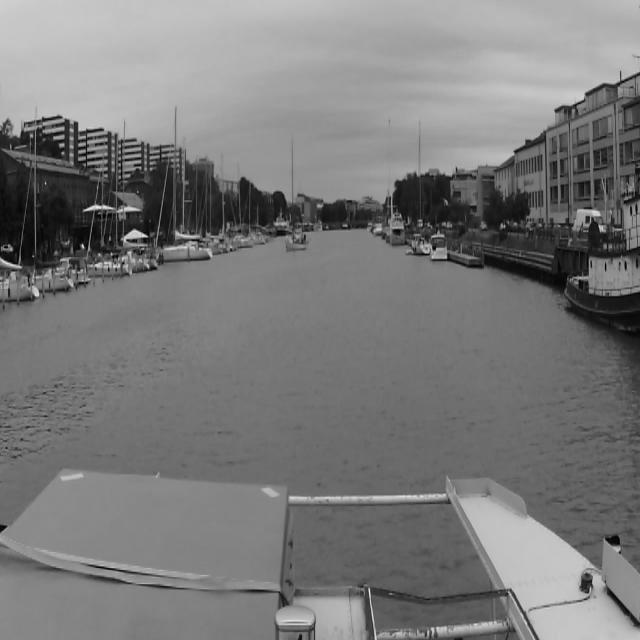ship: (565, 226, 639, 332), (173, 106, 210, 261), (88, 156, 128, 273), (32, 186, 74, 292), (406, 97, 434, 253), (212, 130, 242, 262), (285, 137, 307, 251), (416, 118, 430, 257), (250, 156, 270, 246), (387, 202, 409, 242), (375, 206, 397, 243), (272, 203, 290, 236), (390, 211, 404, 247), (428, 236, 448, 260)
